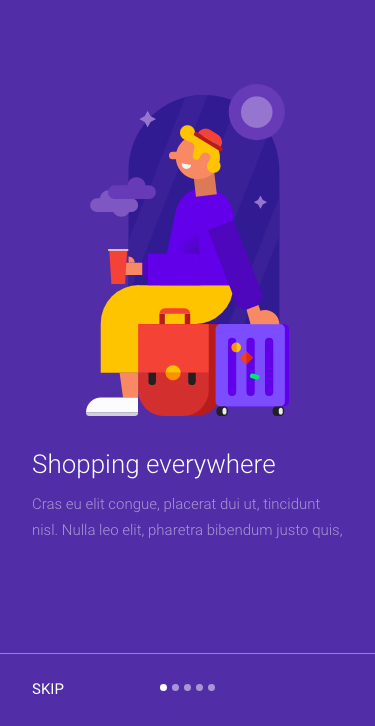Image: (85, 84, 290, 417)
PageIndicator: (159, 683, 217, 693)
Text: (32, 497, 343, 540), (33, 452, 276, 480), (33, 682, 65, 695)
